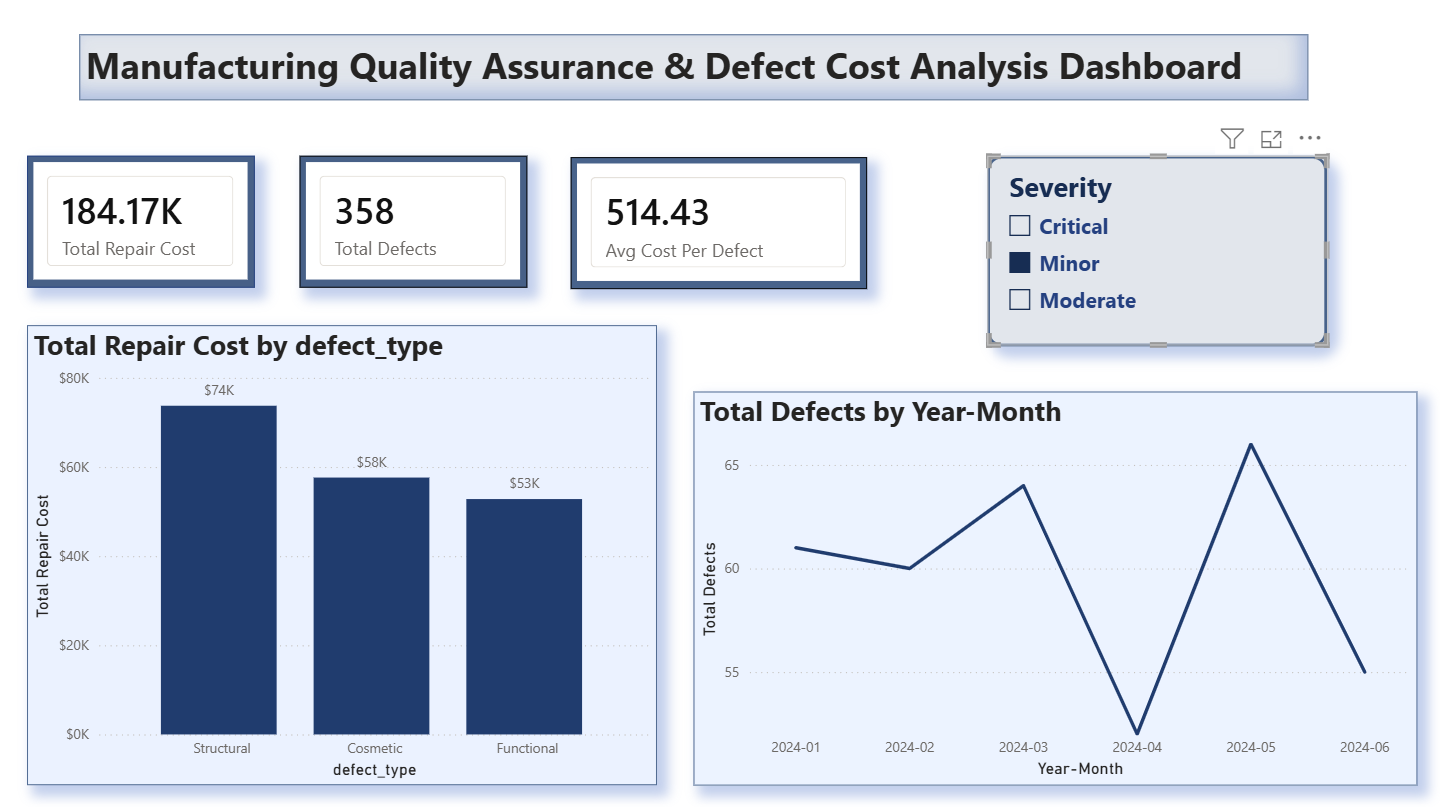

Layout of this report page (visuals, bound fields, positions):
{"tool":"powerbi","page":{"name":"Page 1","canvas":[1280,720],"ordinal":0},"visuals":[{"type":"cardVisual","fields":{"Data":["cleaned_defects_data.Total Repair Cost"]},"box":[26.1,140,201.7,116.6],"z":0},{"type":"cardVisual","fields":{"Data":["cleaned_defects_data.Total Defects"]},"box":[266.9,140,201.7,116.6],"z":1000},{"type":"cardVisual","fields":{"Data":["cleaned_defects_data.Avg Cost Per Defect"]},"box":[507.7,141.3,262.1,116.6],"z":2000},{"type":"clusteredColumnChart","fields":{"Category":["cleaned_defects_data.defect_type"],"Y":["cleaned_defects_data.Total Repair Cost"]},"box":[26.2,290,557.5,407.5],"z":3000},{"type":"lineChart","fields":{"Category":["DimCalendar.Year-Month"],"Y":["cleaned_defects_data.Total Defects"]},"box":[616.1,348.5,640.8,348.5],"z":4000},{"type":"slicer","fields":{"Values":["cleaned_defects_data.severity"]},"box":[876.8,140,300.5,168.8],"z":5000},{"type":"textbox","box":[72,32,1088,58],"z":6000}]}

Visuals, with their boxes in screenshot pixels (x1, y1, x2, y2), scaled from the page's 1280x720 canvas onto the 1440x807 screenshot:
cardVisual - cleaned_defects_data.Total Repair Cost: bbox(29, 157, 256, 288)
cardVisual - cleaned_defects_data.Total Defects: bbox(300, 157, 527, 288)
cardVisual - cleaned_defects_data.Avg Cost Per Defect: bbox(571, 158, 866, 289)
clusteredColumnChart - cleaned_defects_data.defect_type x cleaned_defects_data.Total Repair Cost: bbox(29, 325, 657, 782)
lineChart - DimCalendar.Year-Month x cleaned_defects_data.Total Defects: bbox(693, 391, 1414, 781)
slicer - cleaned_defects_data.severity: bbox(986, 157, 1324, 346)
textbox: bbox(81, 36, 1305, 101)
